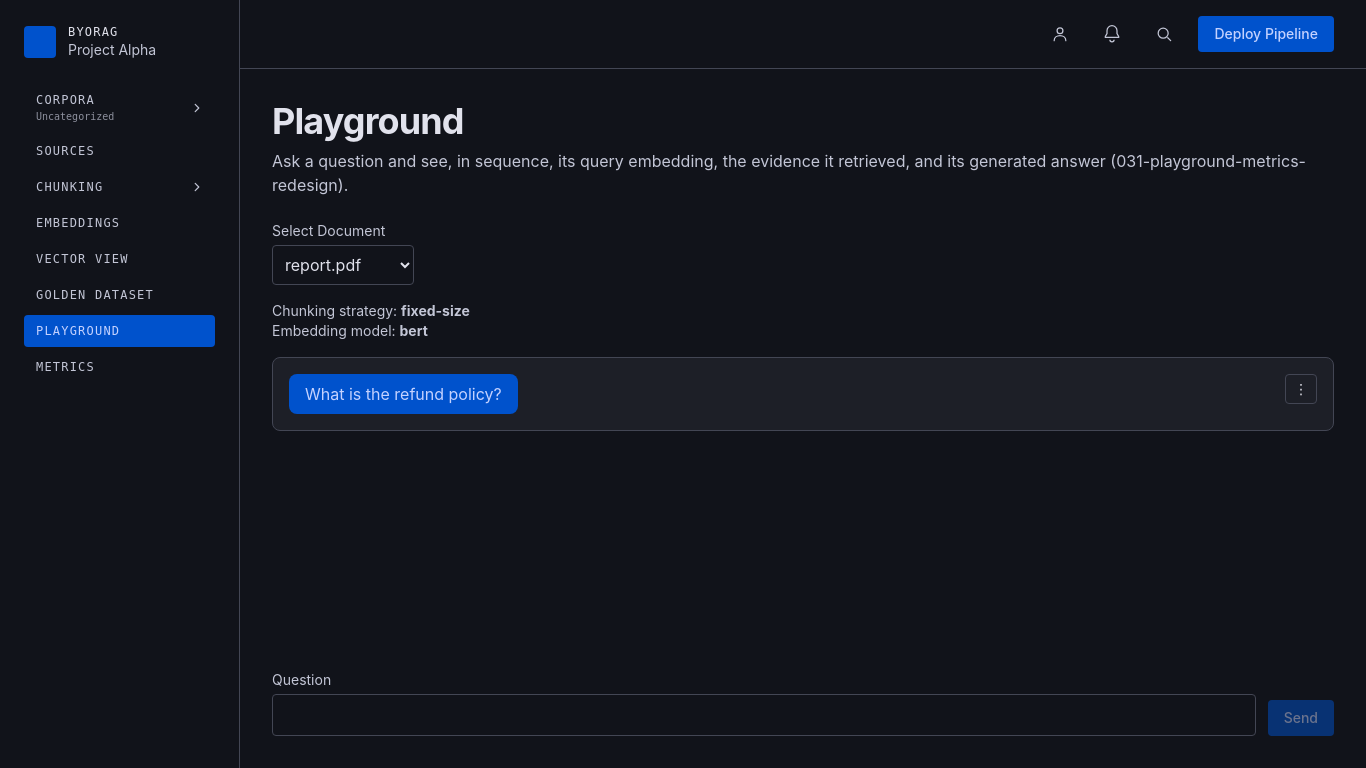
Test case: PlaygroundScreen — every turn shows its own retrieved chunks and query embedding behind Actions (033-ui-ux-polish US6) › shows at most 2 rows of query embedding values by default, with a Show more control, once Query Embedding is chosen
Click the button named "actions for " at (1301, 389), box 1285,374 -> 1317,404
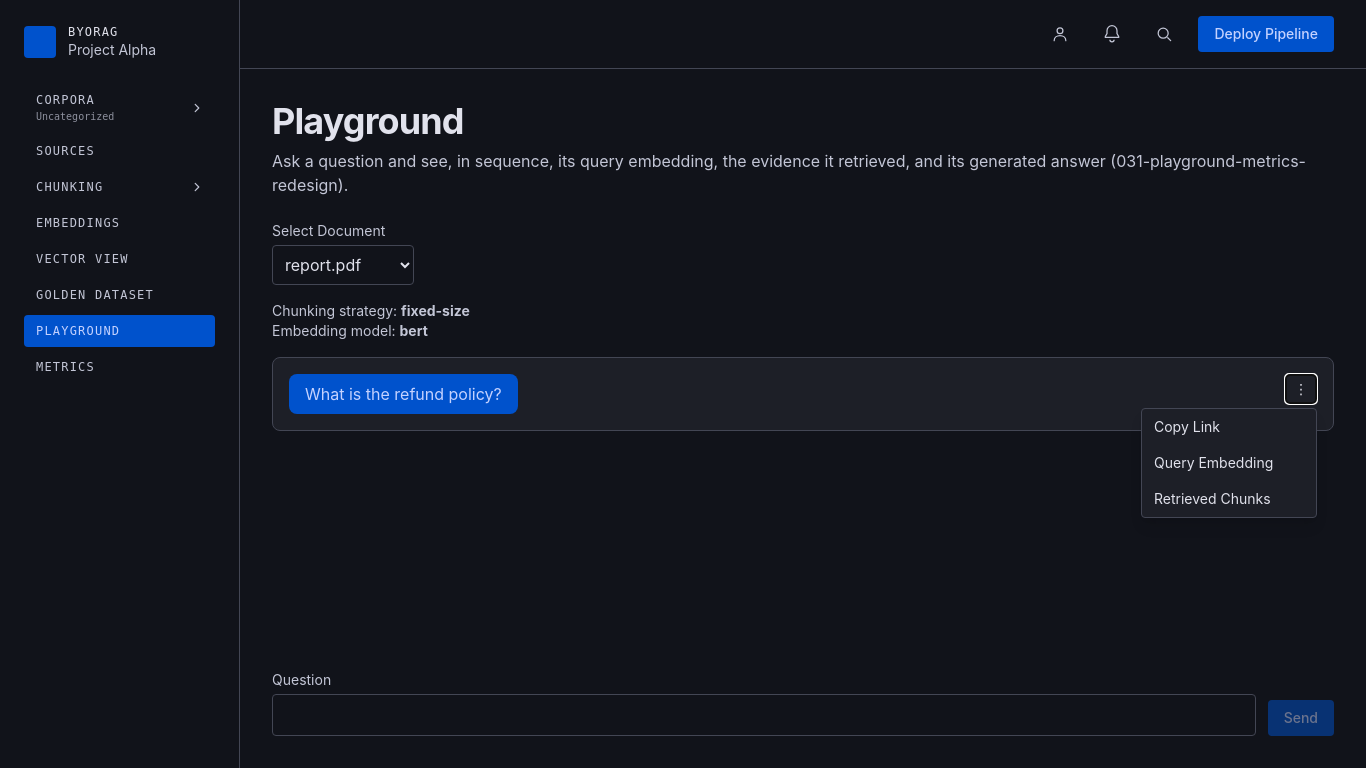
Click the menu item "Query Embedding" at (1229, 463), box 1142,445 -> 1316,481
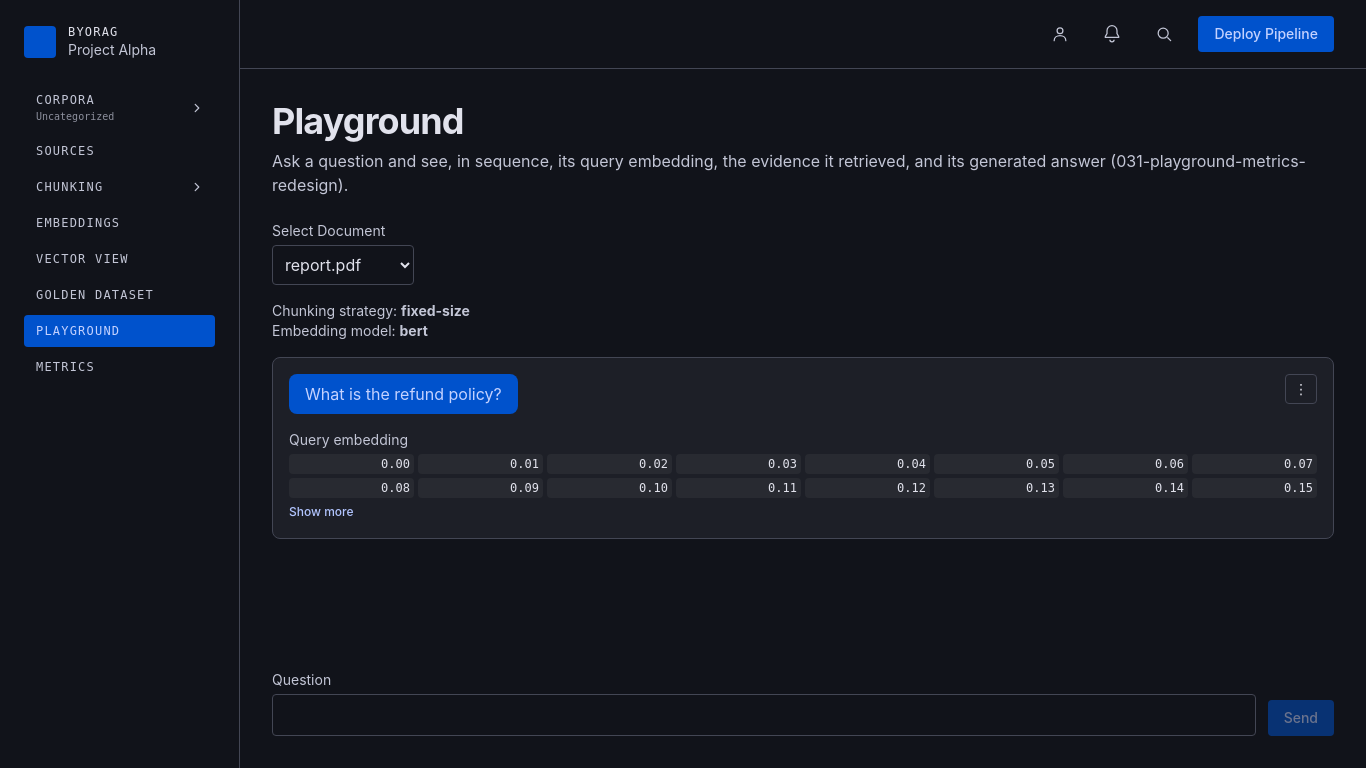
Expected: the element with test id "playground-embedding-preview" does not show "0.16", 289,454 -> 1317,498
Expected: the element with test id "playground-embedding-preview" shows "0.15", 1284,481 -> 1313,495
Expected: the button with aria-label "show more embedding values" is shown, 289,504 -> 354,520
